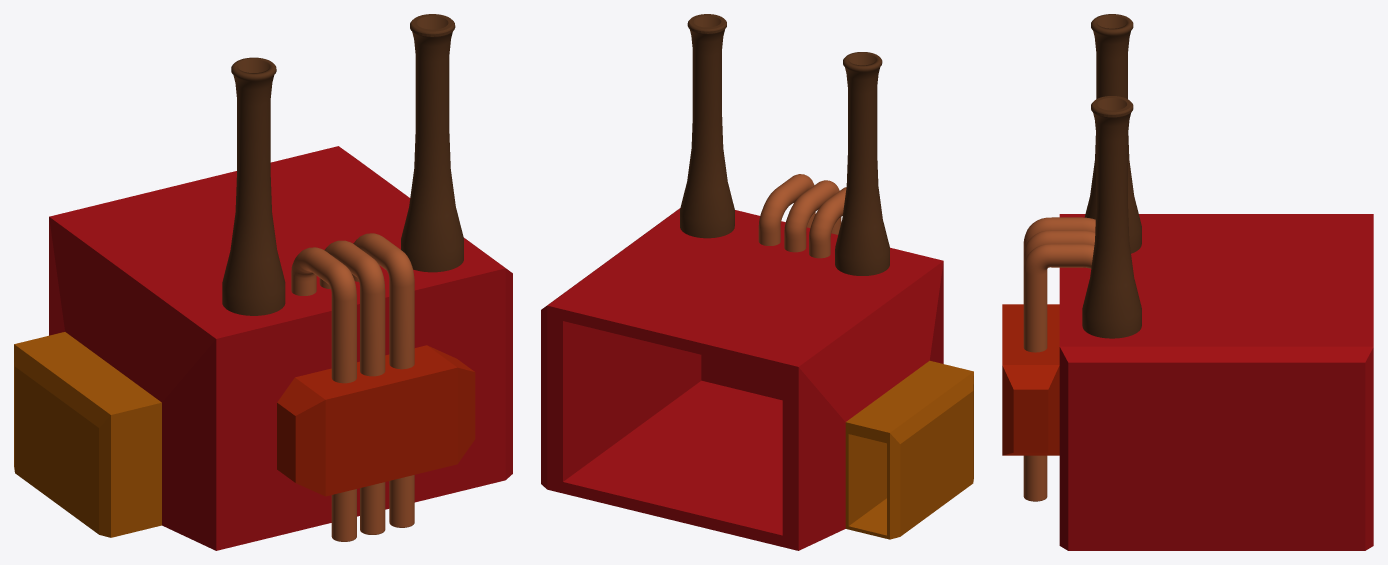
File: factory1.obj
3 renders of one model, left to right at view 1: azimuth 30°, elevation 25°; view 2: azimuth 150°, elevation 25°; view 3: azimuth 270°, elevation 25°, orthographic. The views are drawn at different scales.
Parts seen in each view (by area): view 1: Cube, Cube.001, Cube.002, Cylinder, Cylinder.001_Cylinder.002; view 2: Cube, Cube.001, Cylinder, Cylinder.001_Cylinder.002; view 3: Cube, Cylinder, Cube.002, Cylinder.001_Cylinder.002.
Part boxes in pixels (x1,y1,x2,y2): Cube: (49,146,512,550); Cube.001: (14,332,161,537); Cube.002: (277,345,475,496); Cylinder: (222,14,463,315); Cylinder.001_Cylinder.002: (291,233,414,541); Cube: (541,208,943,550); Cube.001: (845,360,973,539); Cylinder: (680,14,889,275); Cylinder.001_Cylinder.002: (758,174,846,258); Cube: (1059,214,1373,550); Cylinder: (1082,14,1141,338); Cube.002: (1002,304,1059,455); Cylinder.001_Cylinder.002: (1023,217,1095,501).
Bounding box in the file's own units: 13.75 × 15.78 × 12.5.
